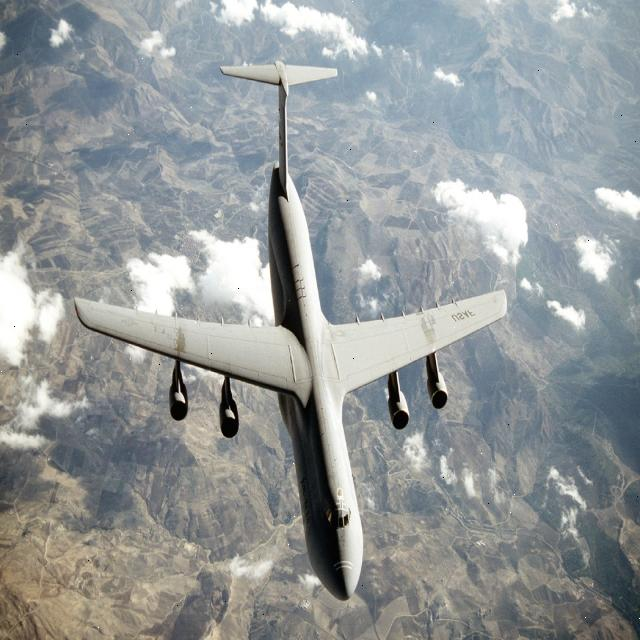C5: (46, 51, 530, 618)
